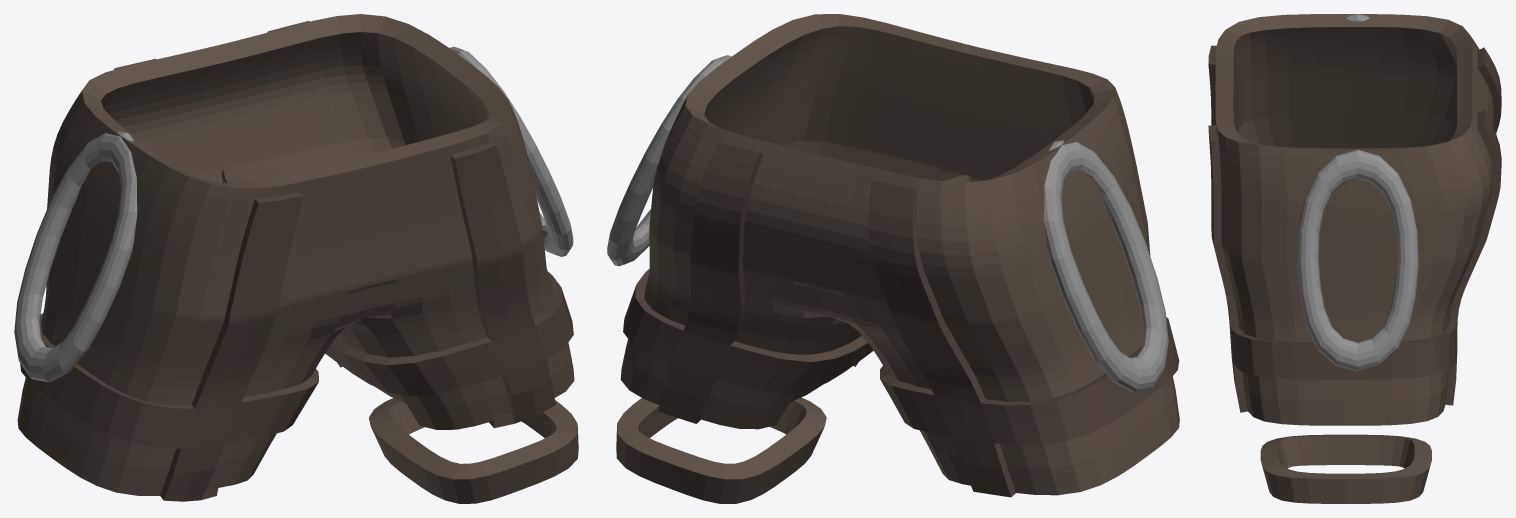
File: Bottom 4.fbx
3 renders of one model, left to right at view 1: azimuth 30°, elevation 25°; view 2: azimuth 150°, elevation 25°; view 3: azimuth 270°, elevation 25°, orthographic. The views are drawn at different scales.
Parts seen in each view (by area): view 1: Bottom 4; view 2: Bottom 4; view 3: Bottom 4.
Boxes of the visible parts, box(x1,y1,x2,y2) form: Bottom 4: box(14, 14, 578, 503); Bottom 4: box(607, 14, 1179, 503); Bottom 4: box(1208, 14, 1501, 503).
Size of the model in its own units: 117 by 85.73 by 67.56.
